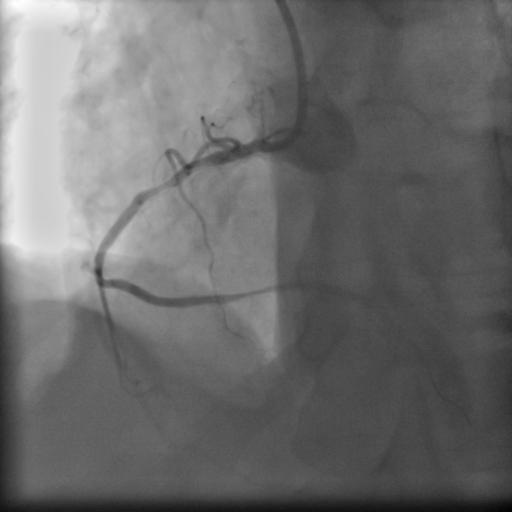Stenosis: (146, 176, 176, 197)
